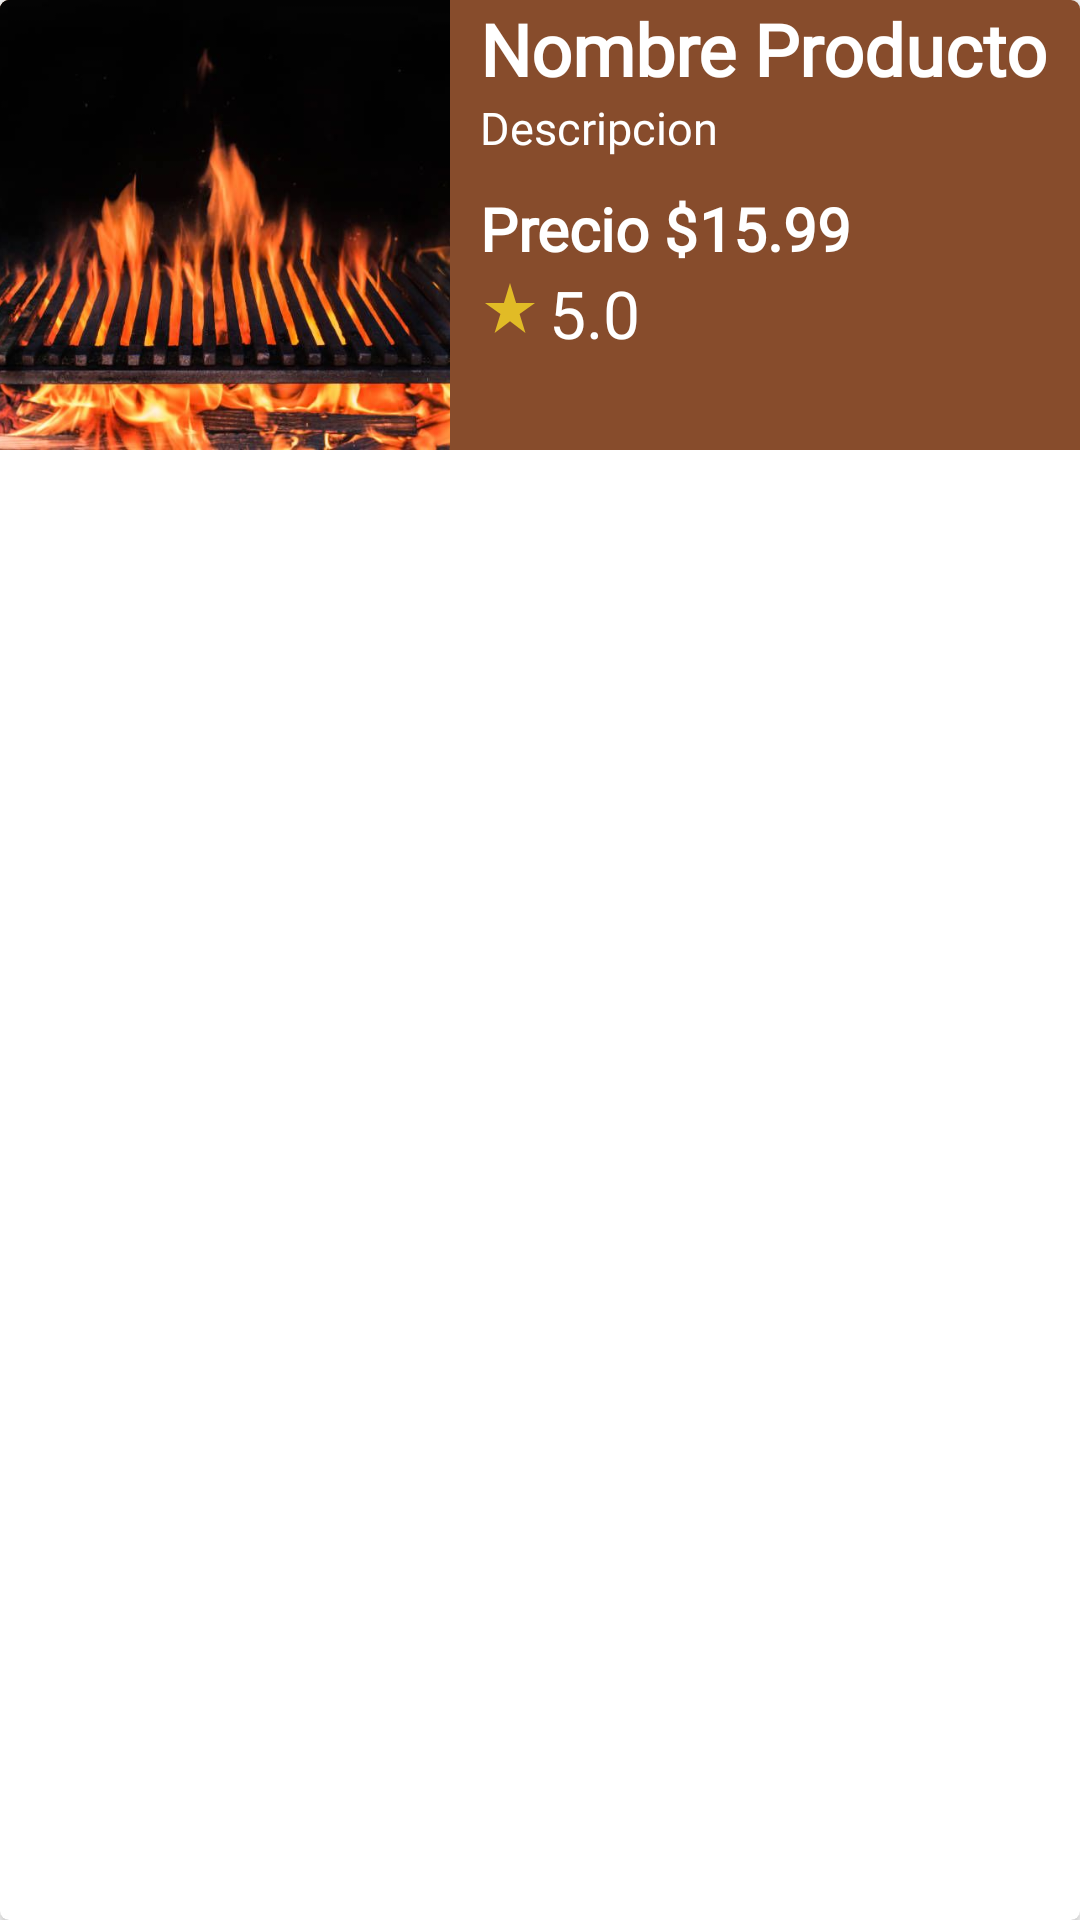

Icons on this 1080×1920 Android screen, each with its box as [left=x1, top=y1, right=x2, bottom=y2]:
star: [left=485, top=284, right=535, bottom=333]
